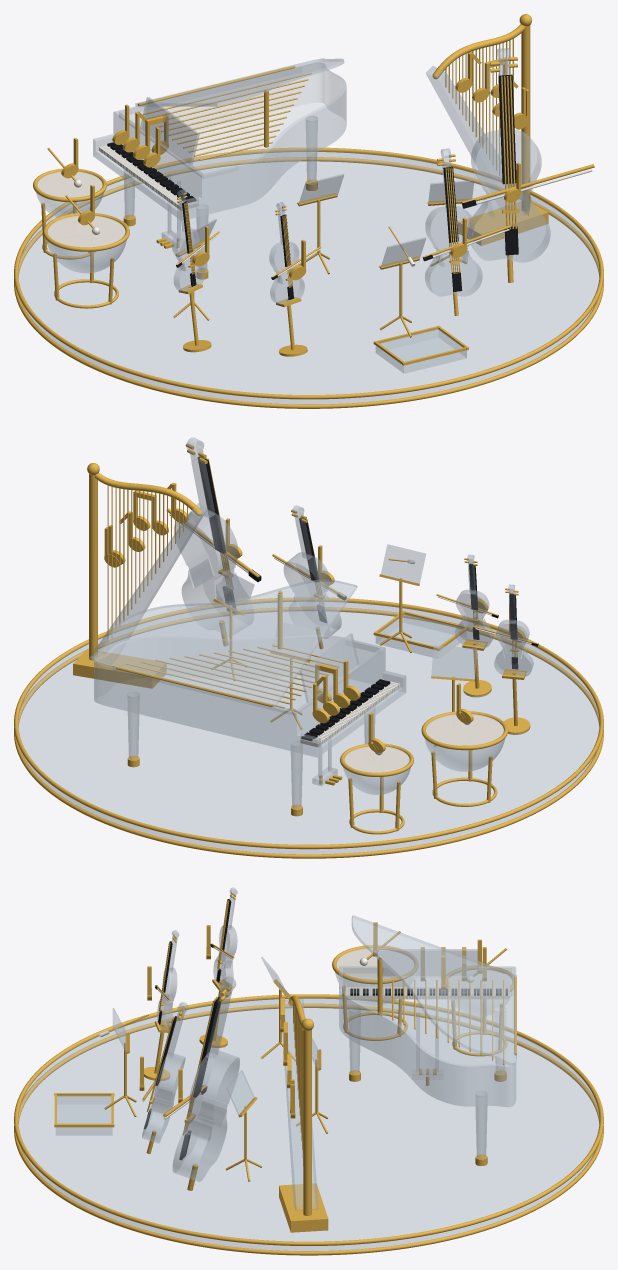
Rendered from crystal_orchestra.glb.
3 renders of one model, top to bottom at view 1: azimuth 30°, elevation 25°; view 2: azimuth 150°, elevation 25°; view 3: azimuth 270°, elevation 25°, orthographic.
Parts seen in each view (by area): view 1: crystal_orchestra (×7); view 2: crystal_orchestra (×6); view 3: crystal_orchestra (×6).
Boxes of the visible parts, box(x1,y1,x2,y2) form: crystal_orchestra (×7): box(14, 14, 603, 408); crystal_orchestra (×6): box(14, 437, 603, 858); crystal_orchestra (×6): box(14, 887, 603, 1255).
Size of the model in its own units: 0.3728 by 0.1589 by 0.3728.
